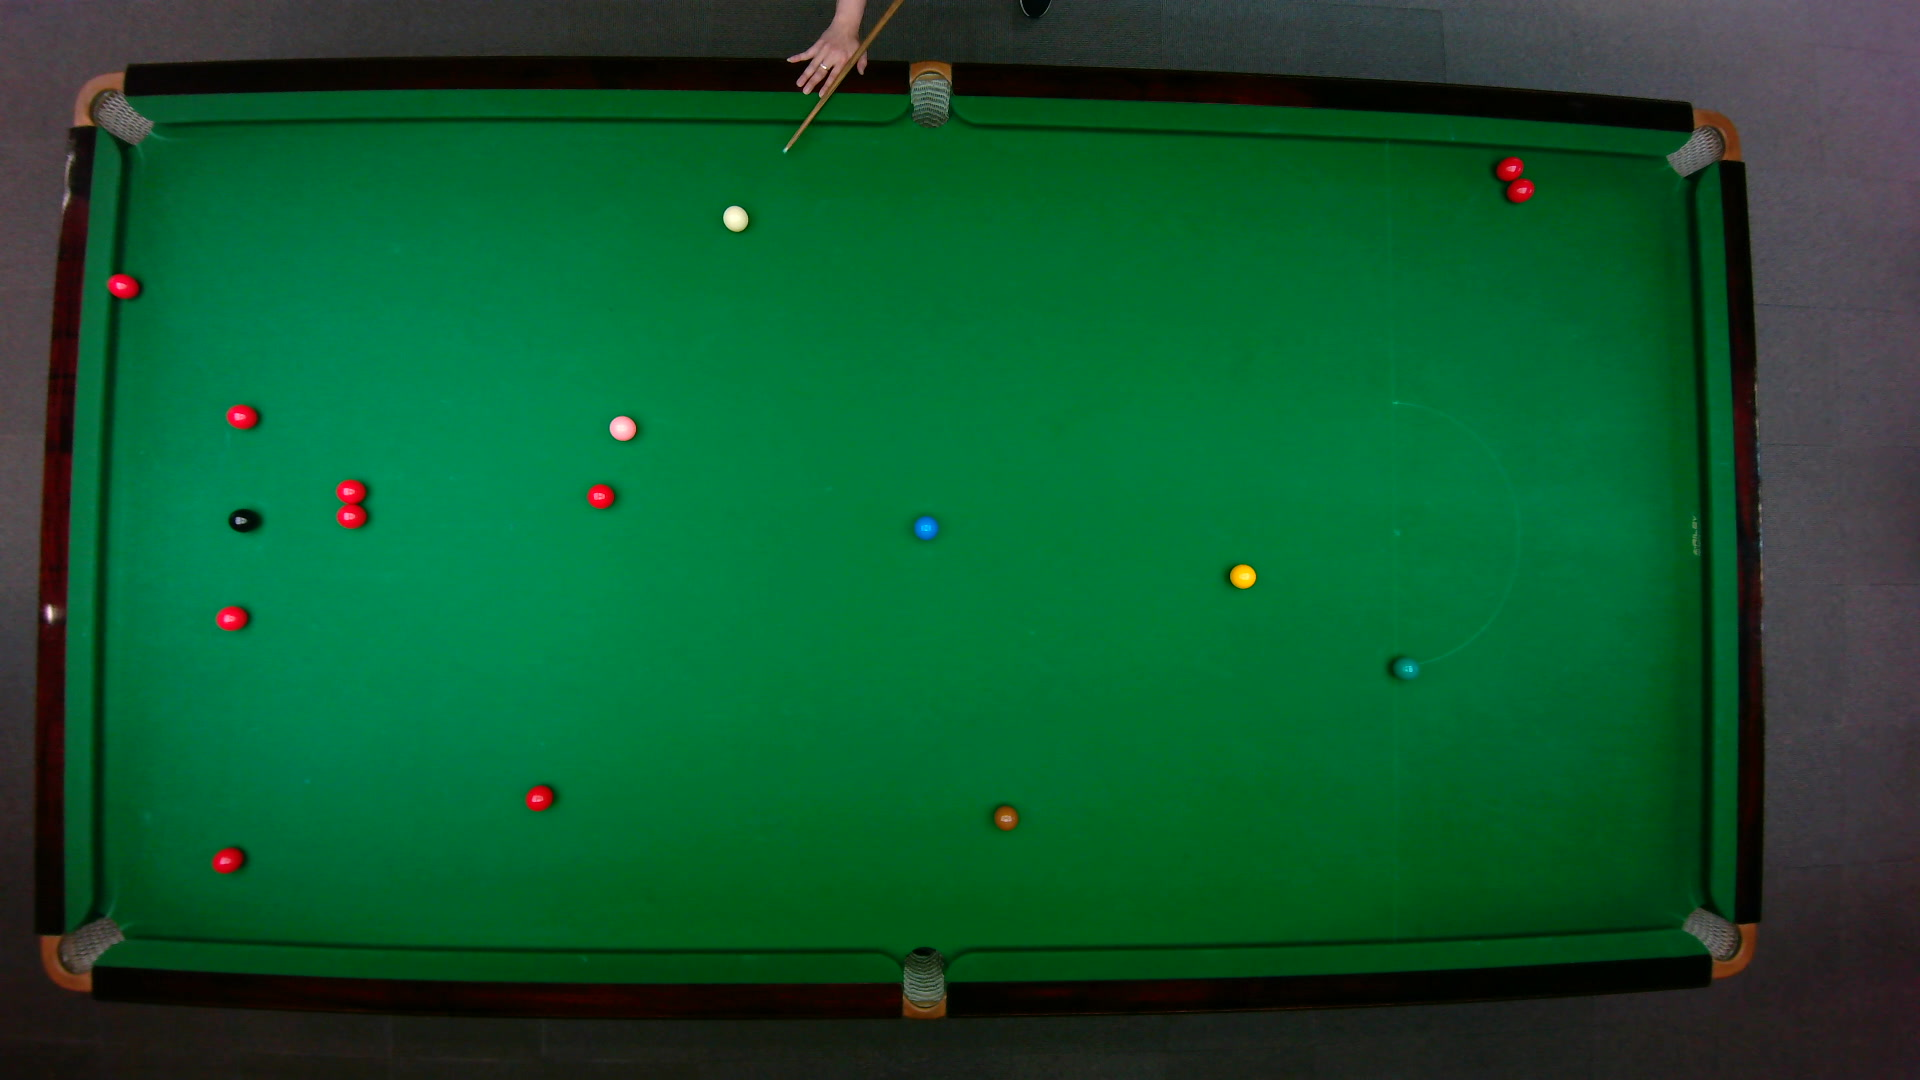bag: (37, 914, 127, 992), (70, 70, 154, 146), (1677, 905, 1756, 978), (1663, 108, 1741, 178), (901, 944, 944, 1021), (909, 59, 953, 131)
black: (225, 506, 262, 534)
blue: (913, 516, 940, 541)
brown: (990, 802, 1021, 833)
cue: (778, 0, 903, 154)
green: (1390, 654, 1422, 683)
pink: (607, 413, 640, 443)
red: (208, 844, 247, 876), (104, 270, 142, 301), (214, 603, 251, 633), (522, 783, 556, 814), (224, 402, 260, 431), (334, 504, 371, 531), (585, 481, 617, 512), (1503, 177, 1538, 204), (334, 477, 369, 504), (1494, 156, 1526, 185)
white: (720, 203, 750, 233)
yellow: (1226, 562, 1258, 591)
zone: (1389, 400, 1519, 667)
